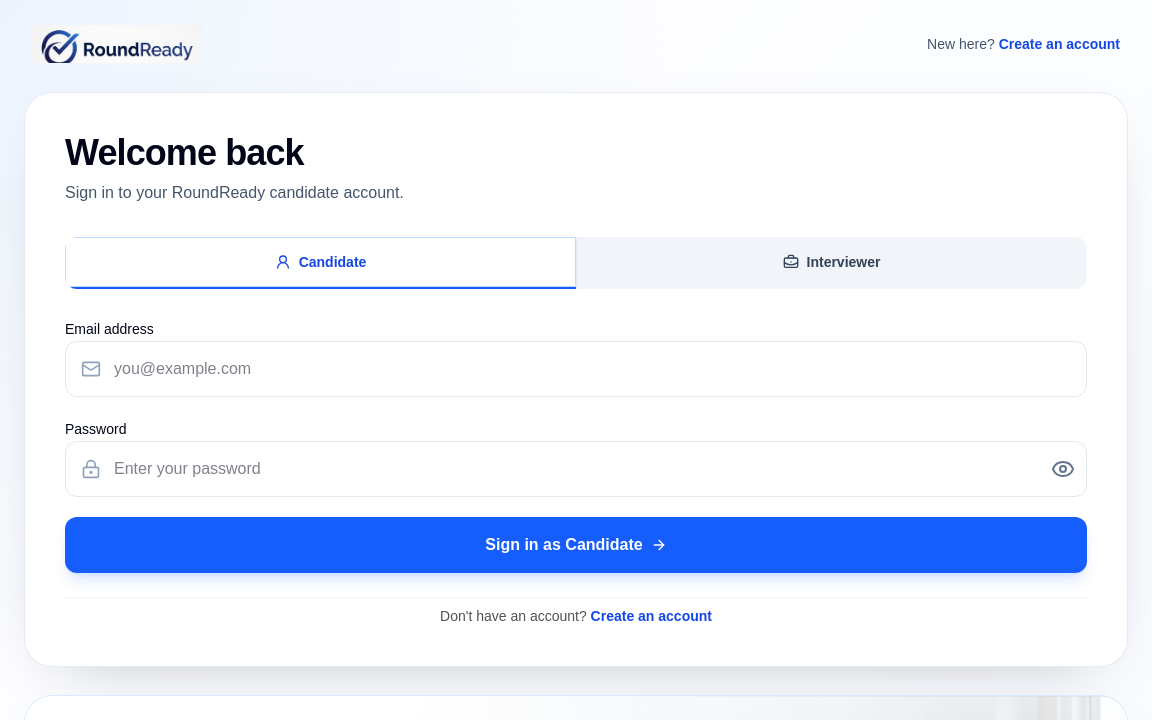
Test case: authentication forms › shows invalid credentials
Type "user@example.com" into the field labelled "Email address" at [576, 369], box [65,341,1087,397]
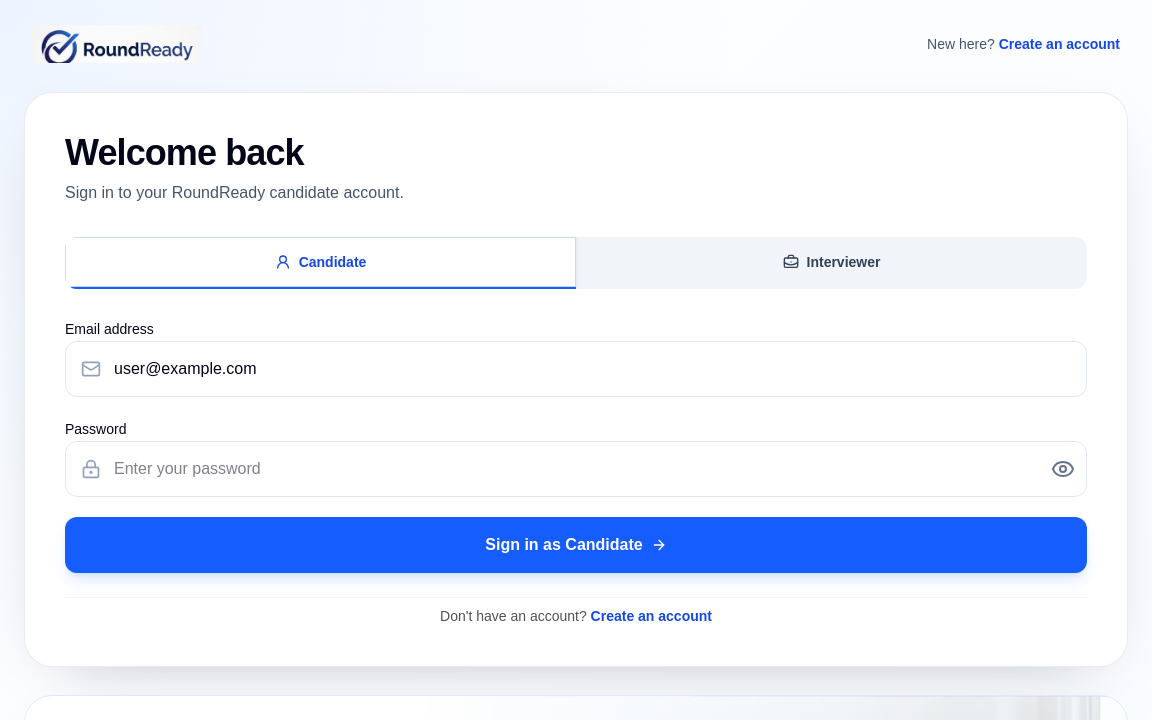
Type "Password123!" into the password field labelled "Password" at [576, 469], box [65,441,1087,497]
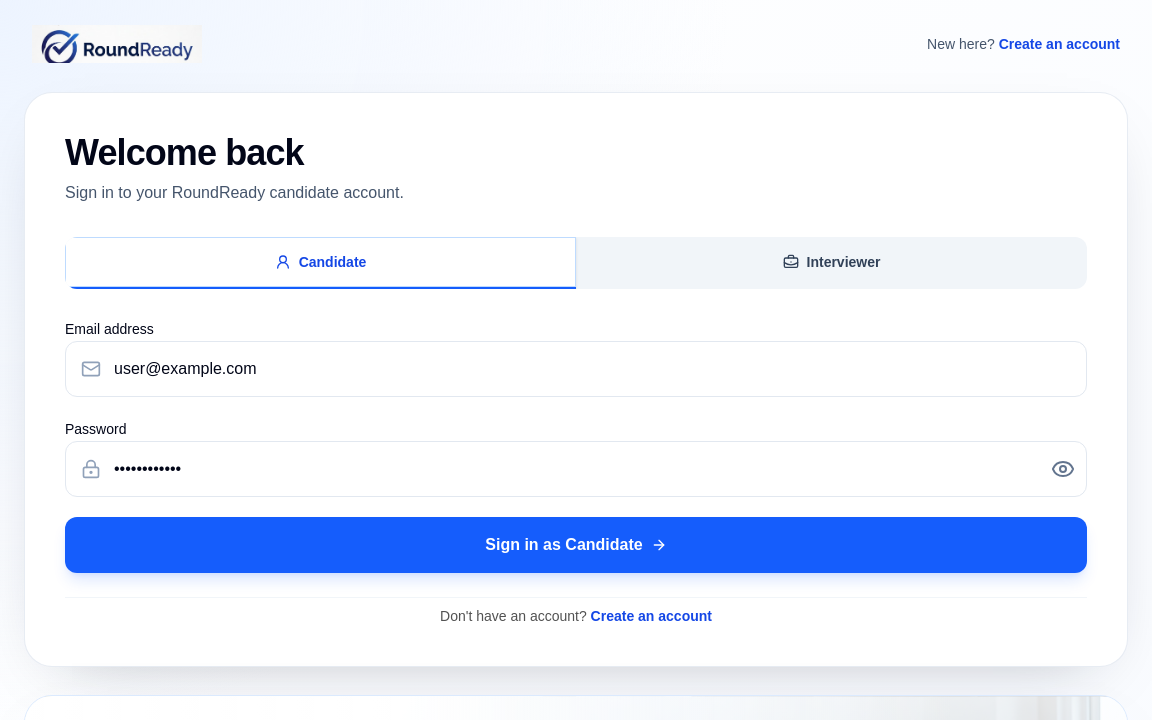
Click the button "Sign in as Candidate" at [576, 545], box [65,517,1087,573]
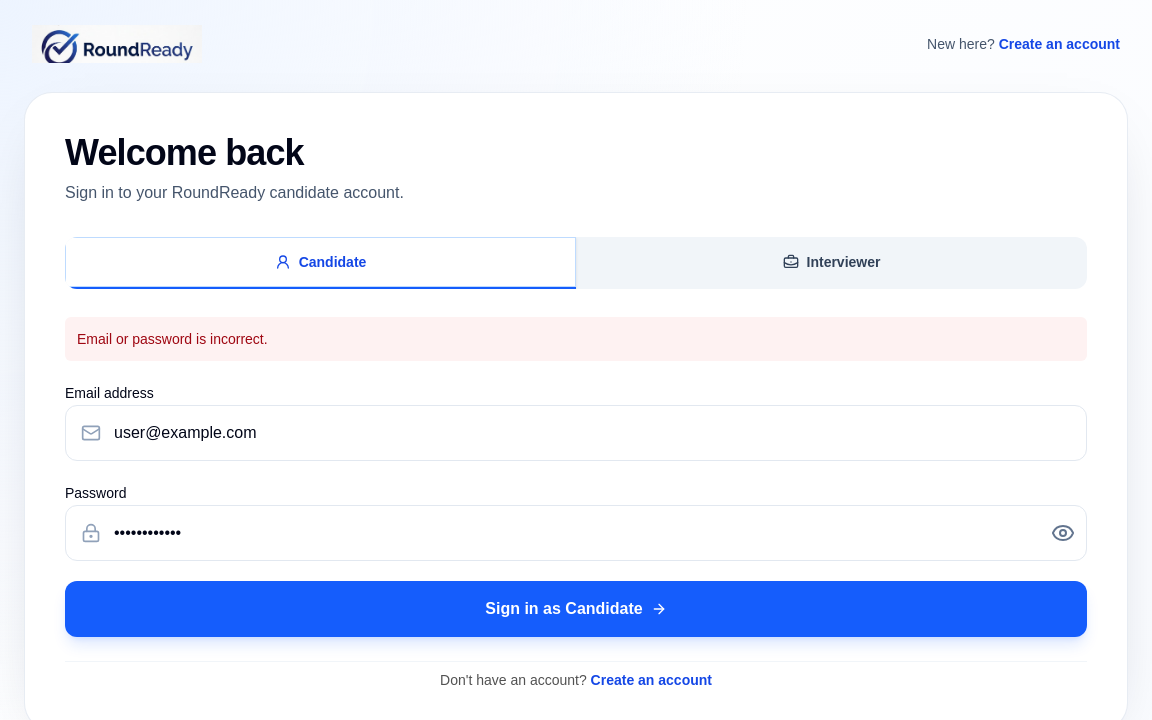
Now the message shows "Email or password is incorrect", box [77,331,268,347]
